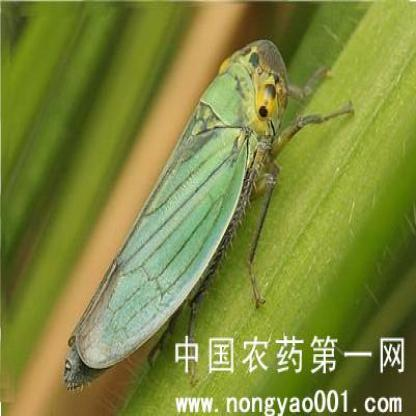Green-Leafhopper: (62, 34, 356, 395)
